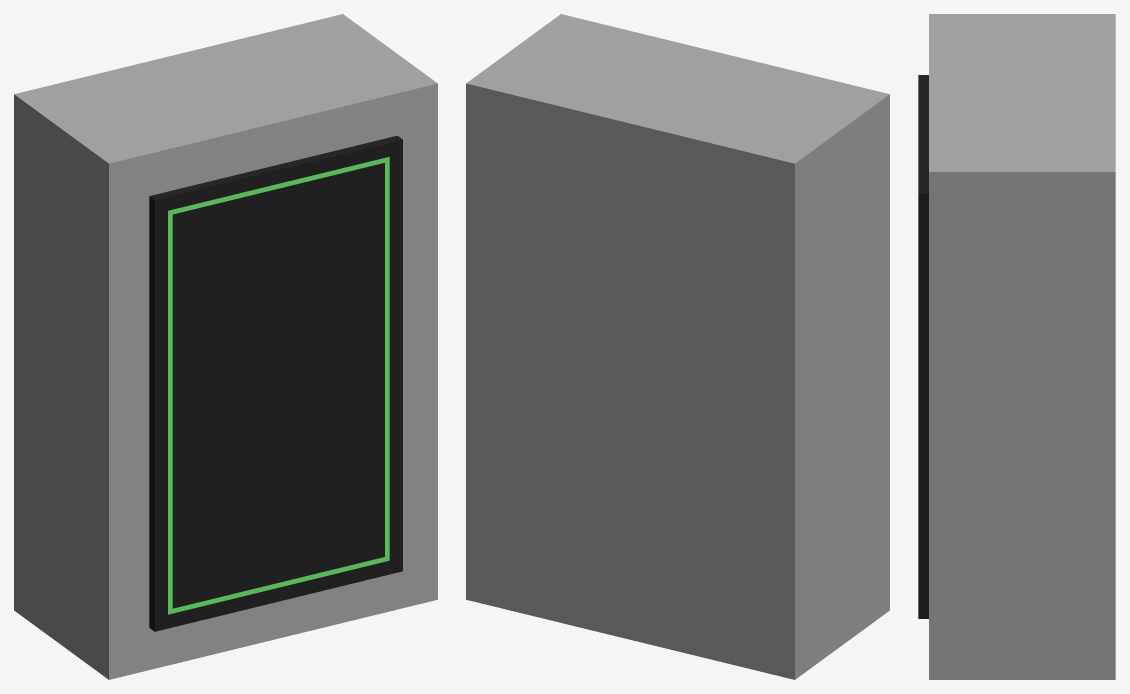
File: keycard.fbx
The picture shows the model from 3 angles, left to right: view 1: azimuth 30°, elevation 25°; view 2: azimuth 150°, elevation 25°; view 3: azimuth 270°, elevation 25°; orthographic projection.
Parts seen in each view (by area): view 1: card reader; view 2: card reader; view 3: card reader.
Boxes of the visible parts, x1,y1,x2,y2 form: card reader: (14,14,437,679); card reader: (466,14,889,679); card reader: (918,14,1115,679).
Size of the model in its own units: 10 by 15 by 5.29.
